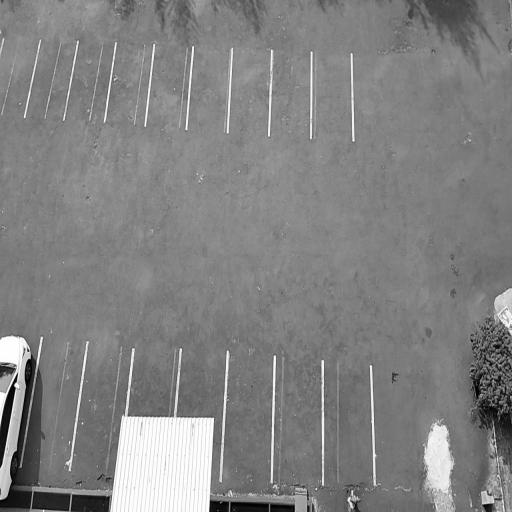Car: (0, 327, 41, 509)
Space Available: (22, 333, 87, 469), (69, 339, 127, 477), (221, 351, 274, 481), (272, 354, 324, 485), (323, 361, 375, 487), (25, 40, 79, 120), (64, 41, 116, 124), (105, 42, 154, 126), (146, 43, 193, 128), (187, 45, 231, 132), (268, 50, 312, 137), (125, 346, 180, 415), (228, 48, 271, 135), (311, 52, 353, 140), (176, 348, 227, 417), (0, 37, 40, 117)
